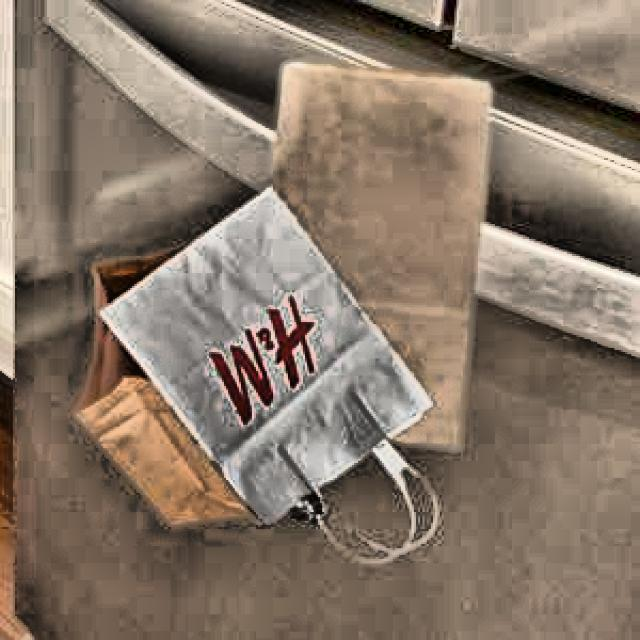Paper-bag: (125, 198, 445, 574), (247, 46, 497, 482), (54, 232, 316, 556)
